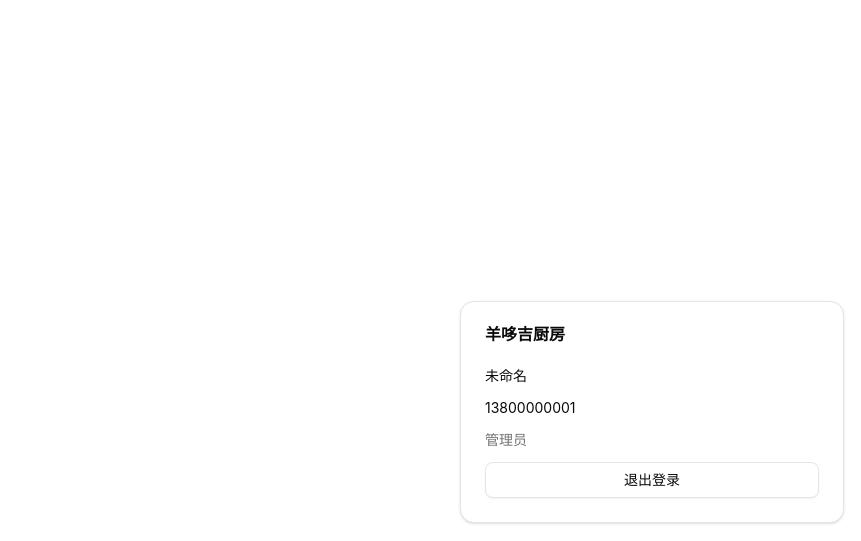
Scenario: HomePage › 退出登录调用接口并跳转退出页
This screenshot has width=861, height=541.
Click the button "退出登录".
click(652, 480)  # box [485,462,819,498]
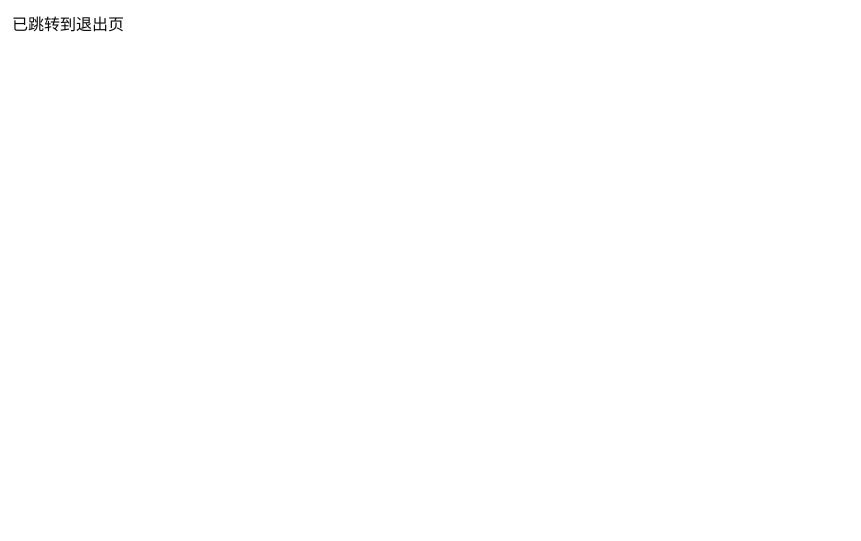
Now the text "已跳转到退出页" is shown, box [12,14,124,34]
